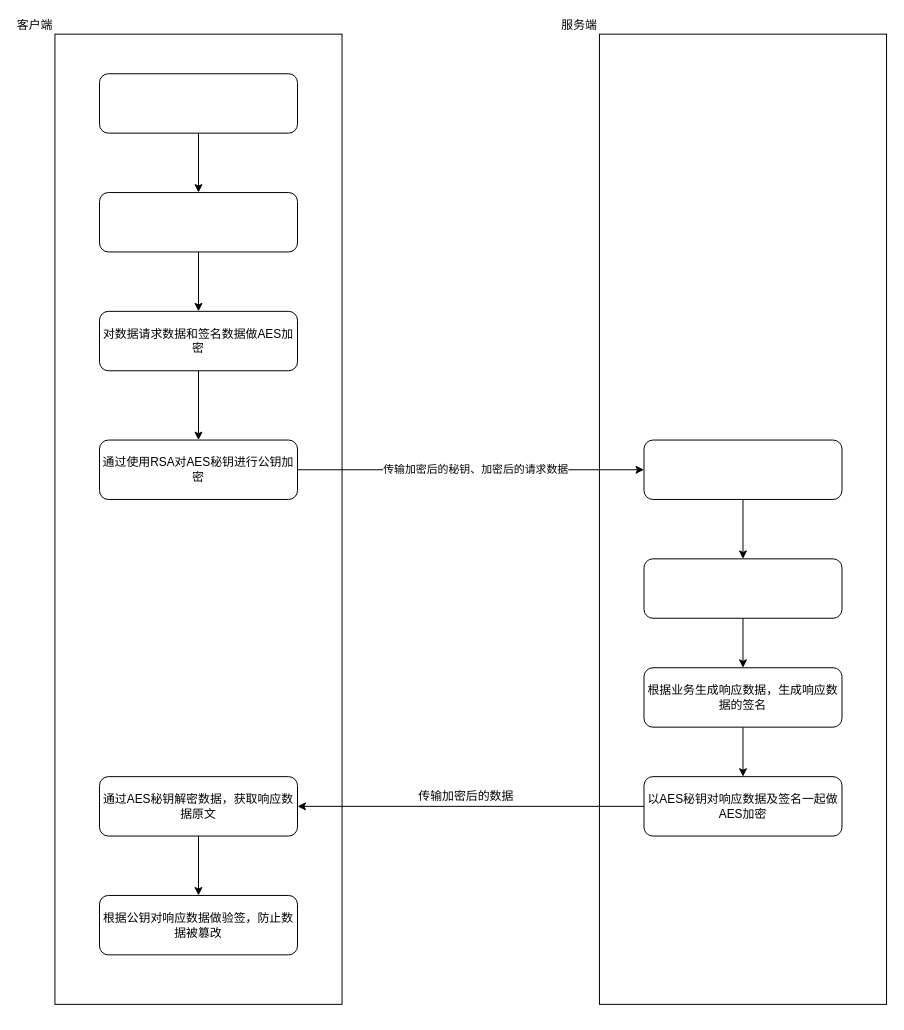
Some shapes in this 904 by 1030 pixel diagram are drawn without their labels. Each missing label, with the centre of its shape:
对加密后的数据做AES解密，获得请求数据原文，对比请求数据签名，防止数据篡改: point (742, 588)
对数据请求数据生成签名数据: point (198, 222)
生成随机字符作为AES秘钥: point (198, 103)
通过使用RSA对加密后的AES秘钥做私钥解密，获得秘钥原文: point (742, 469)
